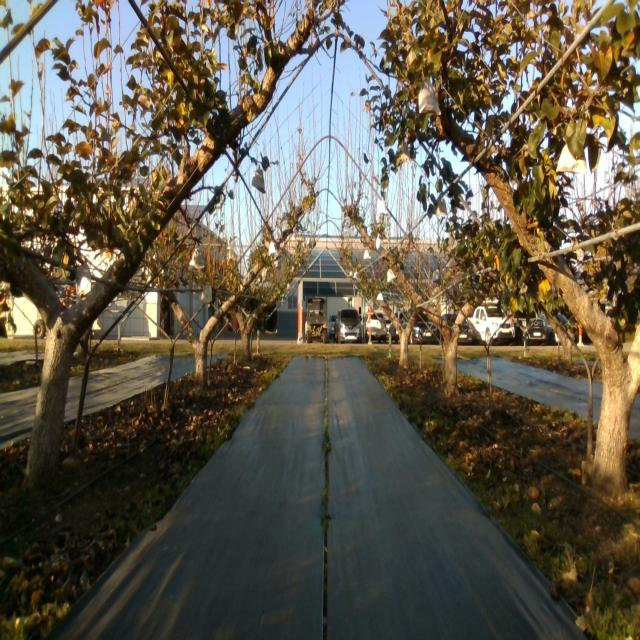pearbags: (554, 140, 588, 174), (418, 78, 441, 115), (75, 258, 92, 295), (251, 165, 266, 193), (190, 246, 204, 269), (434, 196, 447, 217)
